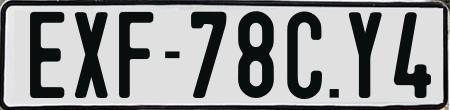4: (393, 9, 431, 100)
7: (191, 10, 226, 98)
8: (238, 10, 280, 99)
C: (286, 10, 325, 99)
E: (29, 9, 66, 100)
F: (117, 11, 157, 97)
X: (72, 11, 107, 103)
Y: (347, 10, 380, 101)
